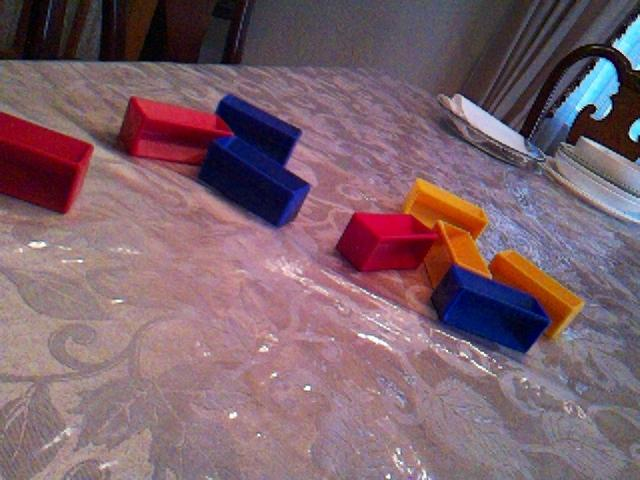blue: (429, 262, 553, 355), (198, 134, 311, 229), (215, 91, 303, 166)
red: (1, 109, 95, 215), (118, 94, 234, 166), (335, 209, 439, 273)
yellow: (489, 248, 585, 341), (401, 176, 489, 240), (423, 219, 493, 290)
